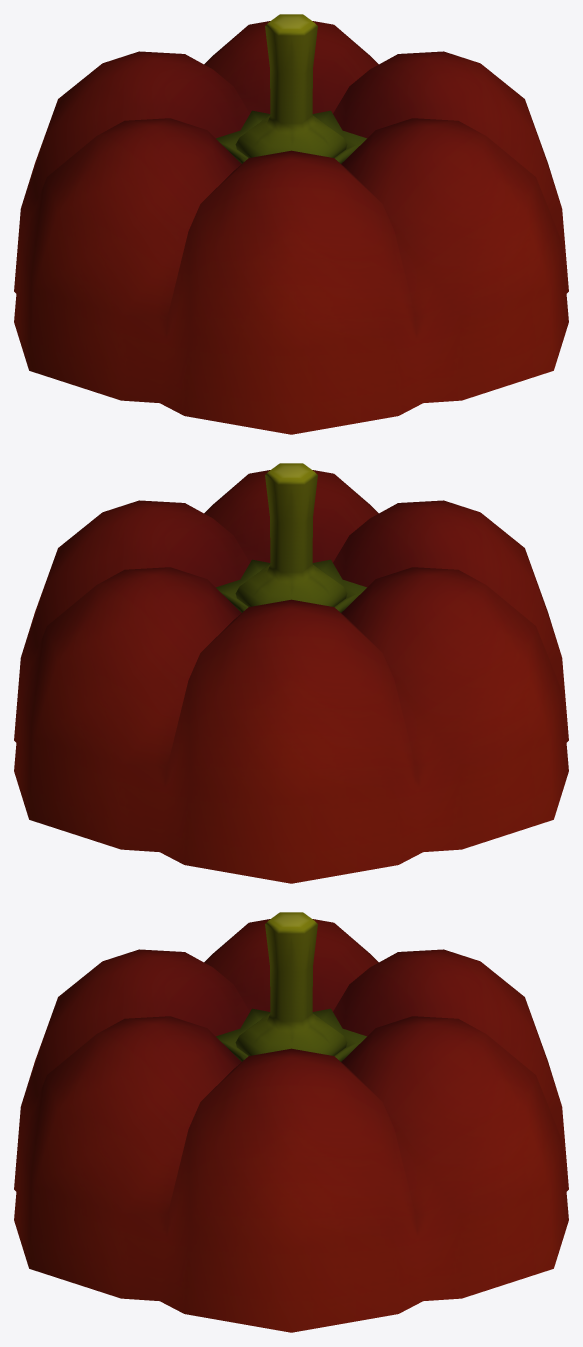
The model's file is Pepper_R_Half_Top.fbx.
3 renders of one model, top to bottom at view 1: azimuth 30°, elevation 25°; view 2: azimuth 150°, elevation 25°; view 3: azimuth 270°, elevation 25°, orthographic.
Parts seen in each view (by area): view 1: Pepper_R_Half_Top; view 2: Pepper_R_Half_Top; view 3: Pepper_R_Half_Top.
Part boxes in pixels (box(x1,y1,x2,y2)): Pepper_R_Half_Top: box(14, 14, 568, 434); Pepper_R_Half_Top: box(14, 463, 568, 883); Pepper_R_Half_Top: box(14, 912, 568, 1332).
Size of the model in its own units: 2.3 by 1.19 by 2.11.
